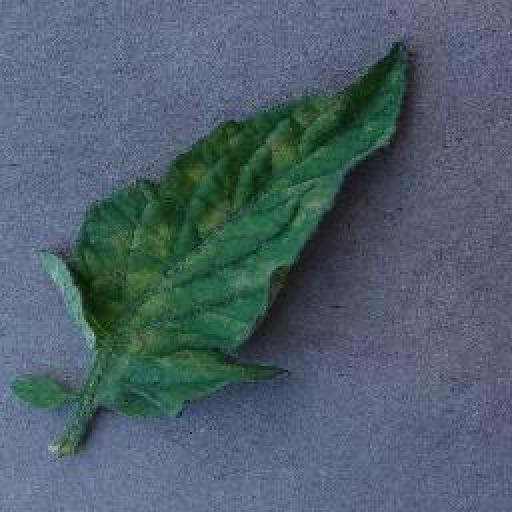Leaf Mold: (46, 39, 405, 420)
